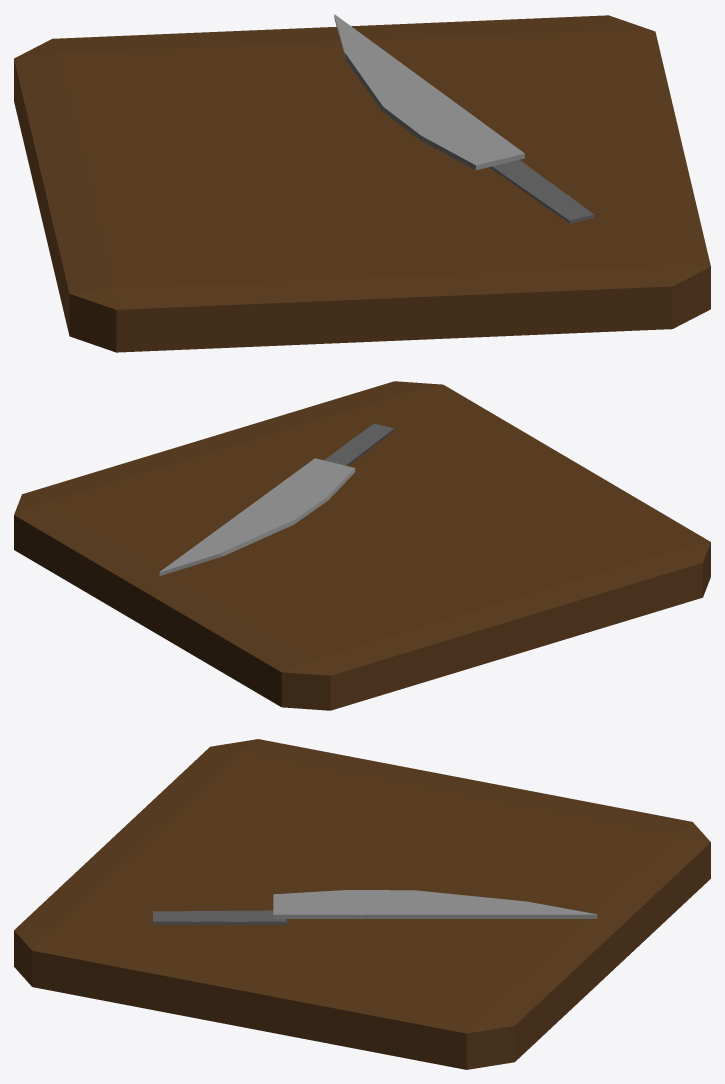
File: tablita 1.fbx
3 renders of one model, top to bottom at view 1: azimuth 30°, elevation 25°; view 2: azimuth 150°, elevation 25°; view 3: azimuth 270°, elevation 25°, orthographic. The views are drawn at different scales.
Visible parts, largest first — view 1: Cube.001, Cube, Cube.003; view 2: Cube.001, Cube, Cube.003; view 3: Cube.001, Cube, Cube.003.
Part boxes in pixels (box(x1,y1,x2,y2)): Cube.001: box(14, 15, 710, 352); Cube: box(334, 14, 524, 170); Cube.003: box(489, 160, 594, 223); Cube.001: box(14, 381, 710, 710); Cube: box(159, 458, 355, 576); Cube.003: box(324, 423, 394, 465); Cube.001: box(14, 739, 710, 1069); Cube: box(273, 890, 597, 918); Cube.003: box(153, 910, 287, 924).
Bounding box in the file's own units: 75.3 × 6.75 × 75.3.
